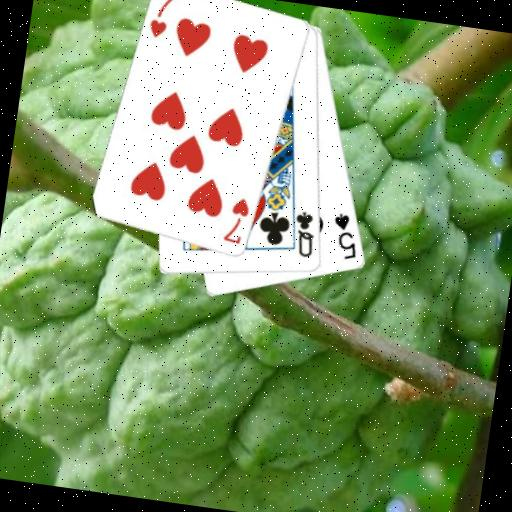5S: (326, 209, 364, 263)
7H: (220, 194, 253, 248), (145, 0, 178, 41)
QC: (288, 207, 320, 260)
